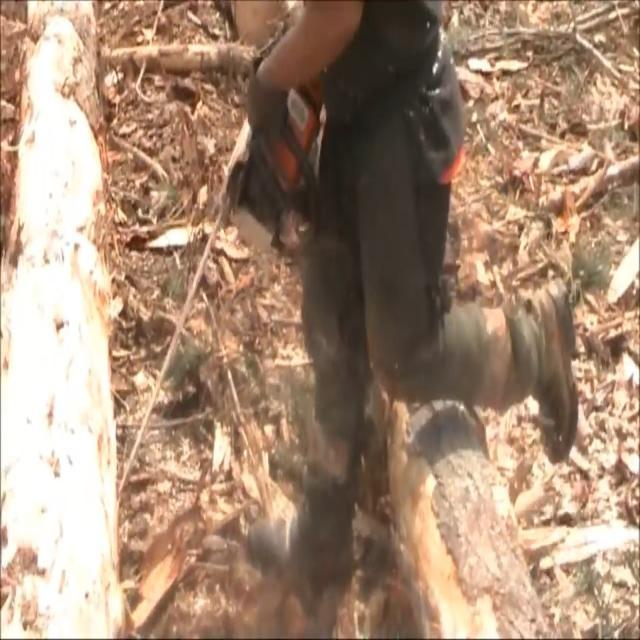Chainsaw: (81, 54, 332, 542)
